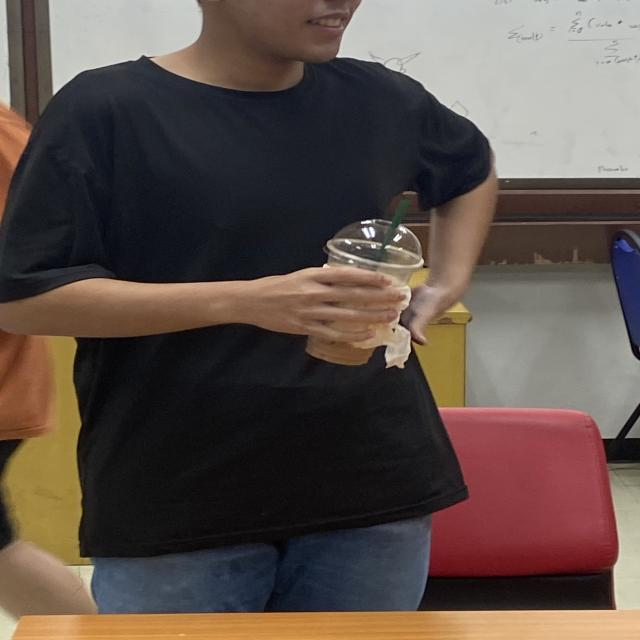cup: (303, 218, 424, 366)
